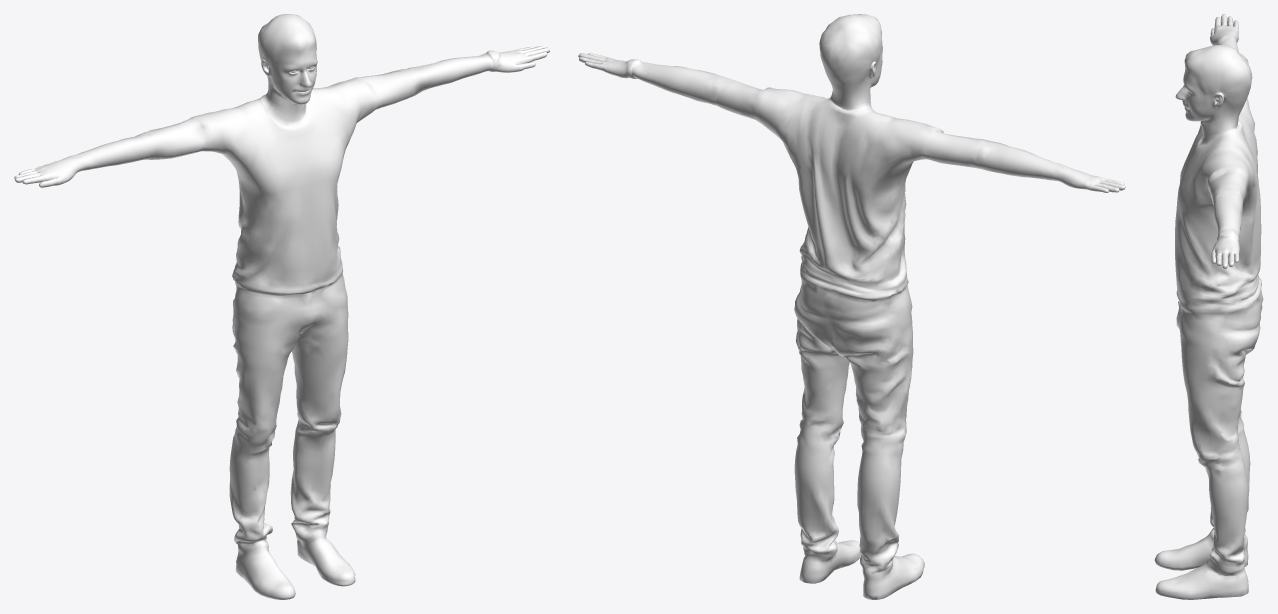
Rendered from human.obj.
The picture shows the model from 3 angles, left to right: view 1: azimuth 30°, elevation 25°; view 2: azimuth 150°, elevation 25°; view 3: azimuth 270°, elevation 25°; orthographic projection. The views are drawn at different scales.
Parts seen in each view (by area): view 1: rp_nathan_animated_003_walking_geo; view 2: rp_nathan_animated_003_walking_geo; view 3: rp_nathan_animated_003_walking_geo.
Boxes of the visible parts, x1,y1,x2,y2 form: rp_nathan_animated_003_walking_geo: [14, 14, 549, 599]; rp_nathan_animated_003_walking_geo: [578, 14, 1125, 599]; rp_nathan_animated_003_walking_geo: [1154, 14, 1263, 599].
Size of the model in its own units: 1.89 by 1.87 by 0.3462.
Materials: 1 (1 with a texture image).
